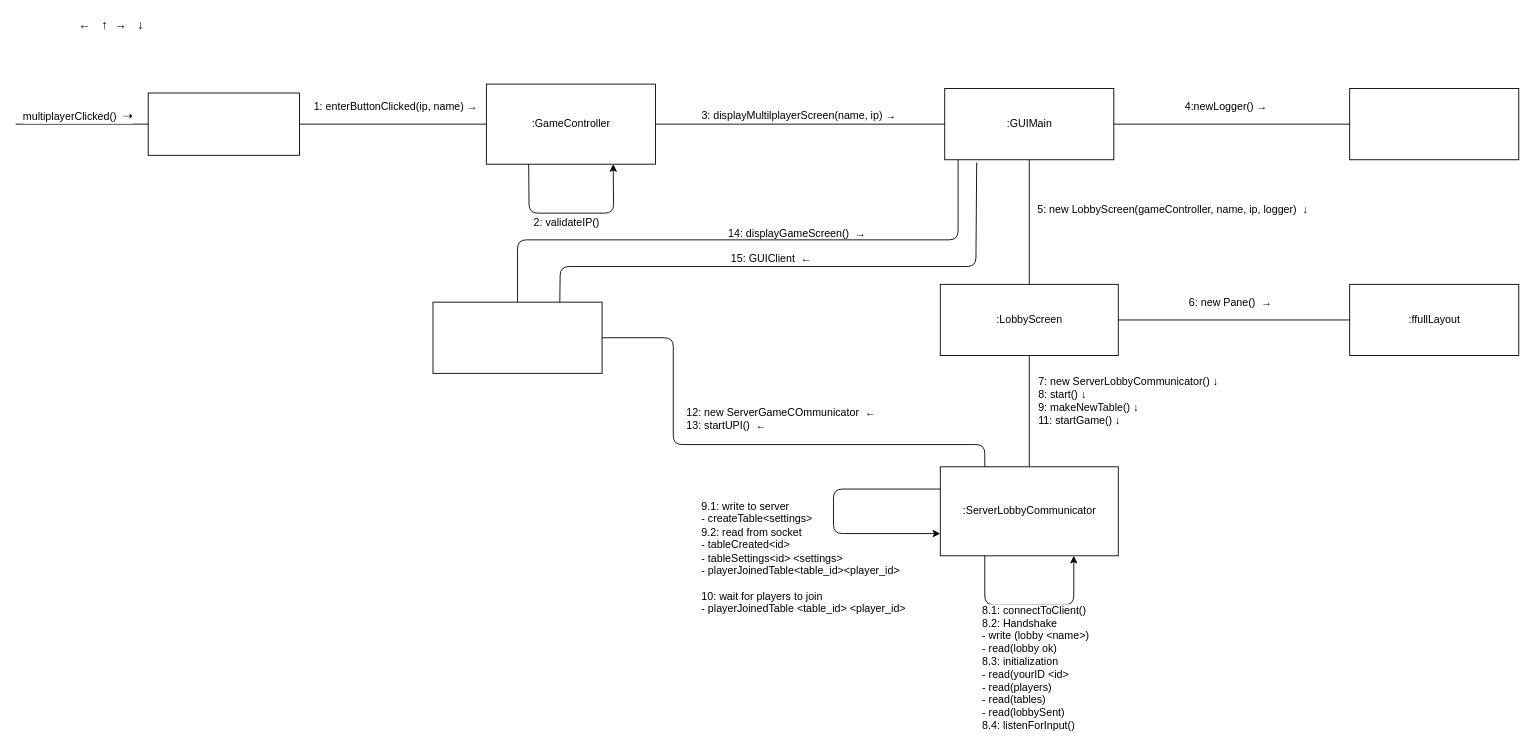
This 1534x747 diagram has some shape labels left out. The box of each missing label's shape, as (x1, y1, x2, y2) in pixels:
:Logger: (1349, 88, 1519, 160)
:MainScreen: (147, 92, 299, 155)
:ServerGameCommunicator: (432, 301, 602, 373)
